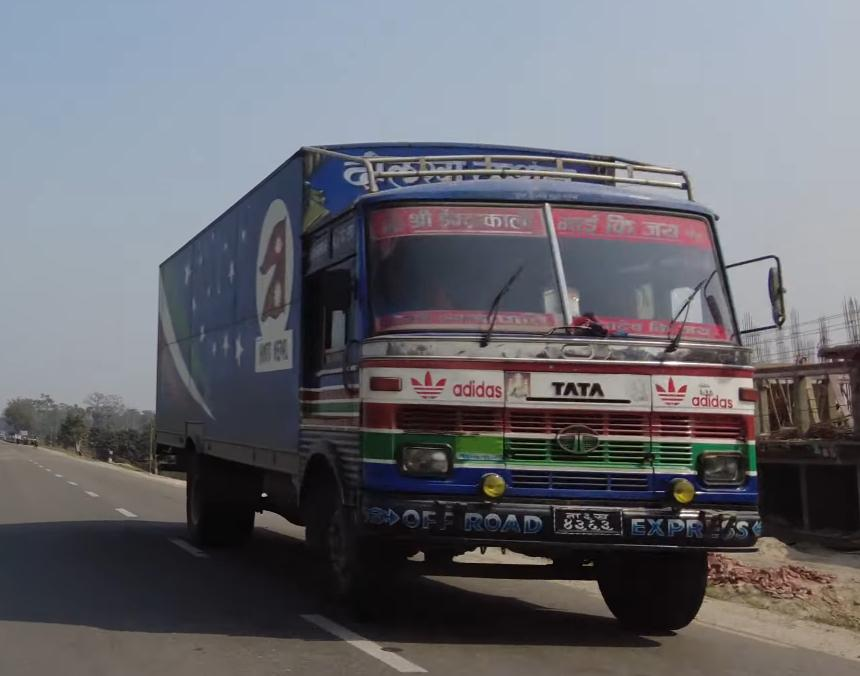truck: (152, 140, 786, 631)
